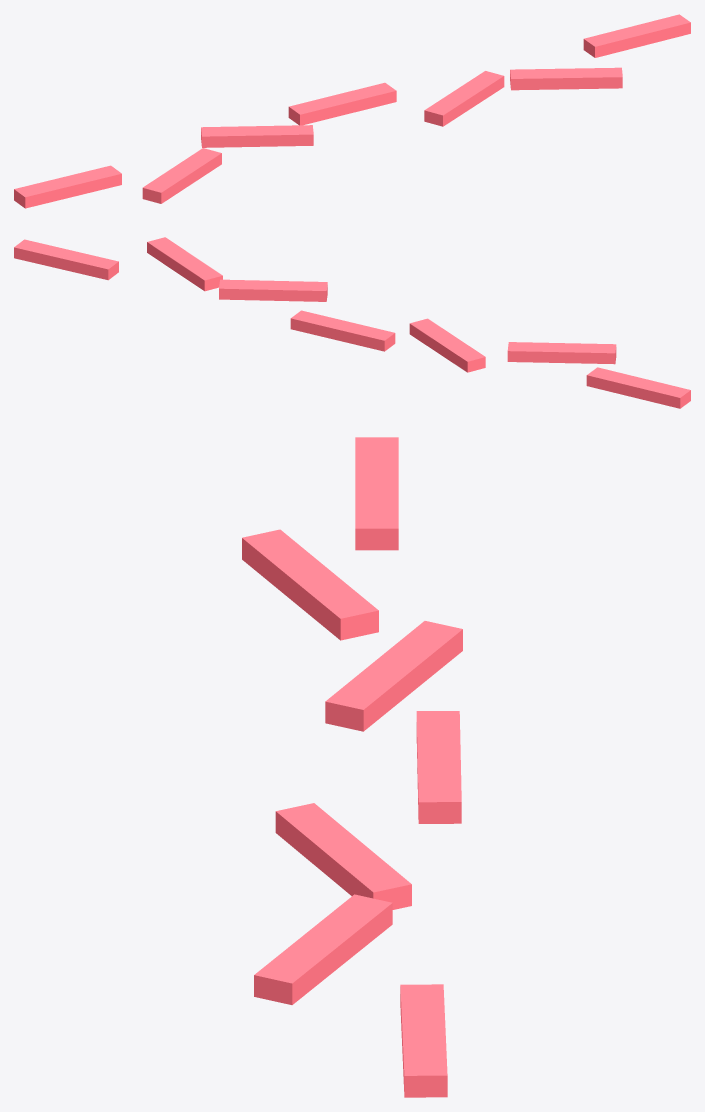
Rendered from membrane-rupture.glb.
3 views of the same model, one above another, from view 1: azimuth 30°, elevation 25°; view 2: azimuth 150°, elevation 25°; view 3: azimuth 270°, elevation 25° (orthographic). The views are drawn at different scales.
Visible parts, largest first — view 1: jagged_membrane_tear_2, jagged_membrane_tear_5, jagged_membrane_tear_3, jagged_membrane_tear_0, jagged_membrane_tear_6, jagged_membrane_tear_4, jagged_membrane_tear_1; view 2: jagged_membrane_tear_1, jagged_membrane_tear_4, jagged_membrane_tear_3, jagged_membrane_tear_0, jagged_membrane_tear_6, jagged_membrane_tear_2, jagged_membrane_tear_5; view 3: jagged_membrane_tear_5, jagged_membrane_tear_2, jagged_membrane_tear_1, jagged_membrane_tear_4, jagged_membrane_tear_6, jagged_membrane_tear_0, jagged_membrane_tear_3.
Part boxes in pixels (x1,y1,x2,y2): jagged_membrane_tear_2: [201, 125, 313, 147]; jagged_membrane_tear_5: [510, 67, 622, 90]; jagged_membrane_tear_3: [288, 82, 396, 125]; jagged_membrane_tear_0: [14, 165, 121, 208]; jagged_membrane_tear_6: [583, 14, 690, 57]; jagged_membrane_tear_4: [424, 71, 504, 126]; jagged_membrane_tear_1: [142, 148, 221, 203]; jagged_membrane_tear_1: [507, 342, 616, 364]; jagged_membrane_tear_4: [219, 279, 327, 301]; jagged_membrane_tear_3: [290, 310, 395, 351]; jagged_membrane_tear_0: [586, 367, 690, 408]; jagged_membrane_tear_6: [14, 239, 118, 280]; jagged_membrane_tear_2: [409, 318, 485, 372]; jagged_membrane_tear_5: [147, 237, 222, 291]; jagged_membrane_tear_5: [254, 894, 392, 1004]; jagged_membrane_tear_2: [325, 621, 462, 731]; jagged_membrane_tear_1: [242, 529, 378, 640]; jagged_membrane_tear_4: [275, 803, 411, 909]; jagged_membrane_tear_6: [400, 984, 447, 1097]; jagged_membrane_tear_0: [355, 437, 398, 550]; jagged_membrane_tear_3: [416, 711, 461, 823].
Size of the model in its own units: 6.3 by 0.1 by 0.9224.
